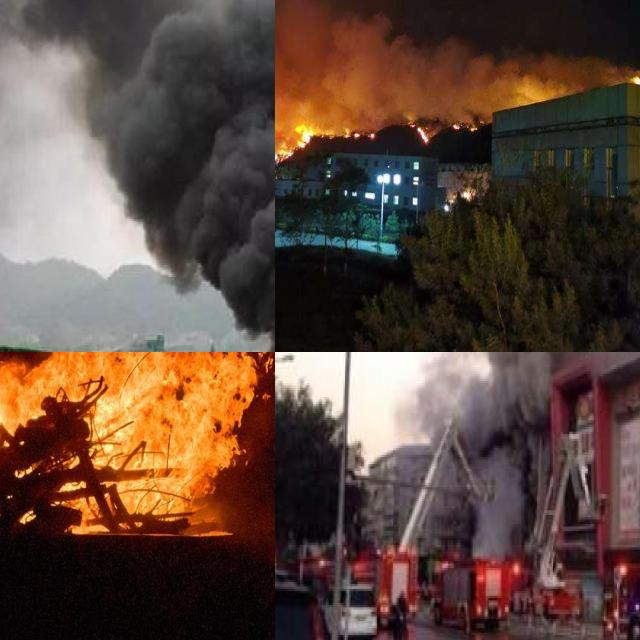fire: (0, 352, 275, 553)
smoke: (0, 0, 275, 350), (275, 0, 640, 148), (391, 352, 640, 445), (467, 450, 527, 559)
